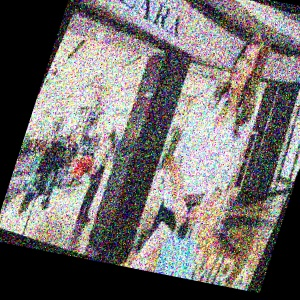zara: (50, 9, 300, 111), (172, 15, 216, 26)
